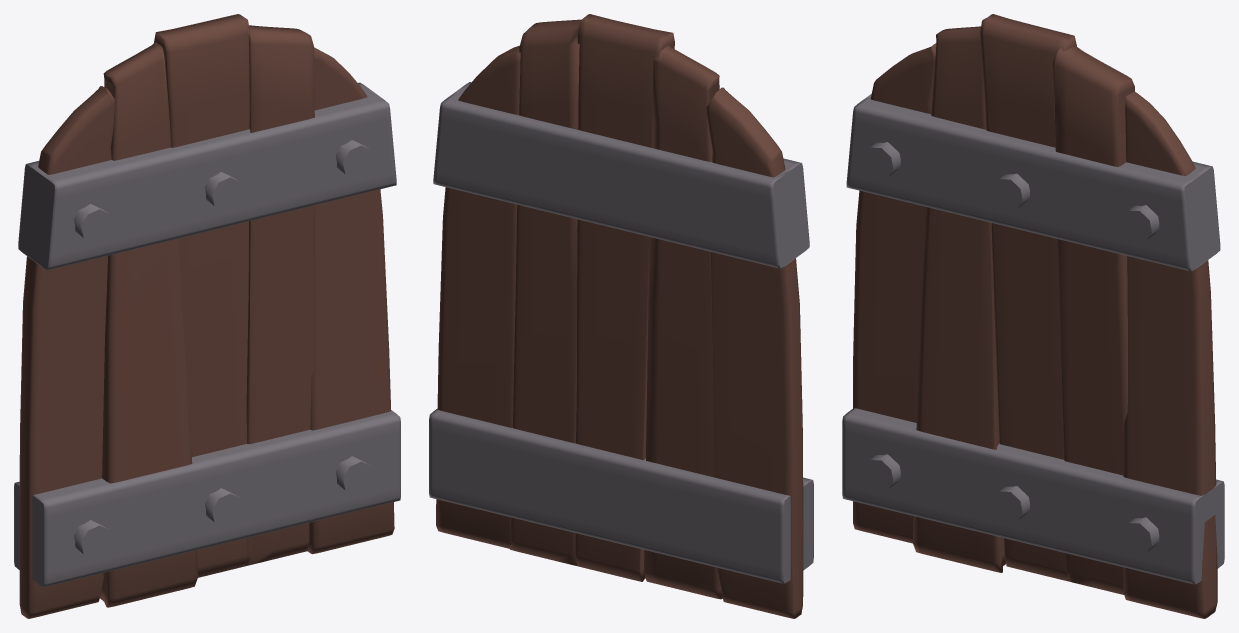
Rendered from DrawBridgeGateAsset.fbx.
The picture shows the model from 3 angles, left to right: view 1: azimuth 30°, elevation 25°; view 2: azimuth 150°, elevation 25°; view 3: azimuth 330°, elevation 25°; orthographic projection.
Visible parts, largest first — view 1: Cube.107, Cylinder.055; view 2: Cube.107, Cylinder.055; view 3: Cube.107, Cylinder.055.
Part boxes in pixels (box(x1,y1,x2,y2)): Cube.107: box(19, 14, 394, 618); Cylinder.055: box(14, 82, 400, 587); Cube.107: box(436, 14, 803, 618); Cylinder.055: box(429, 82, 813, 583); Cube.107: box(853, 14, 1217, 618); Cylinder.055: box(842, 94, 1224, 584).
Bounding box in the file's own units: 292 × 53.57 × 425.
